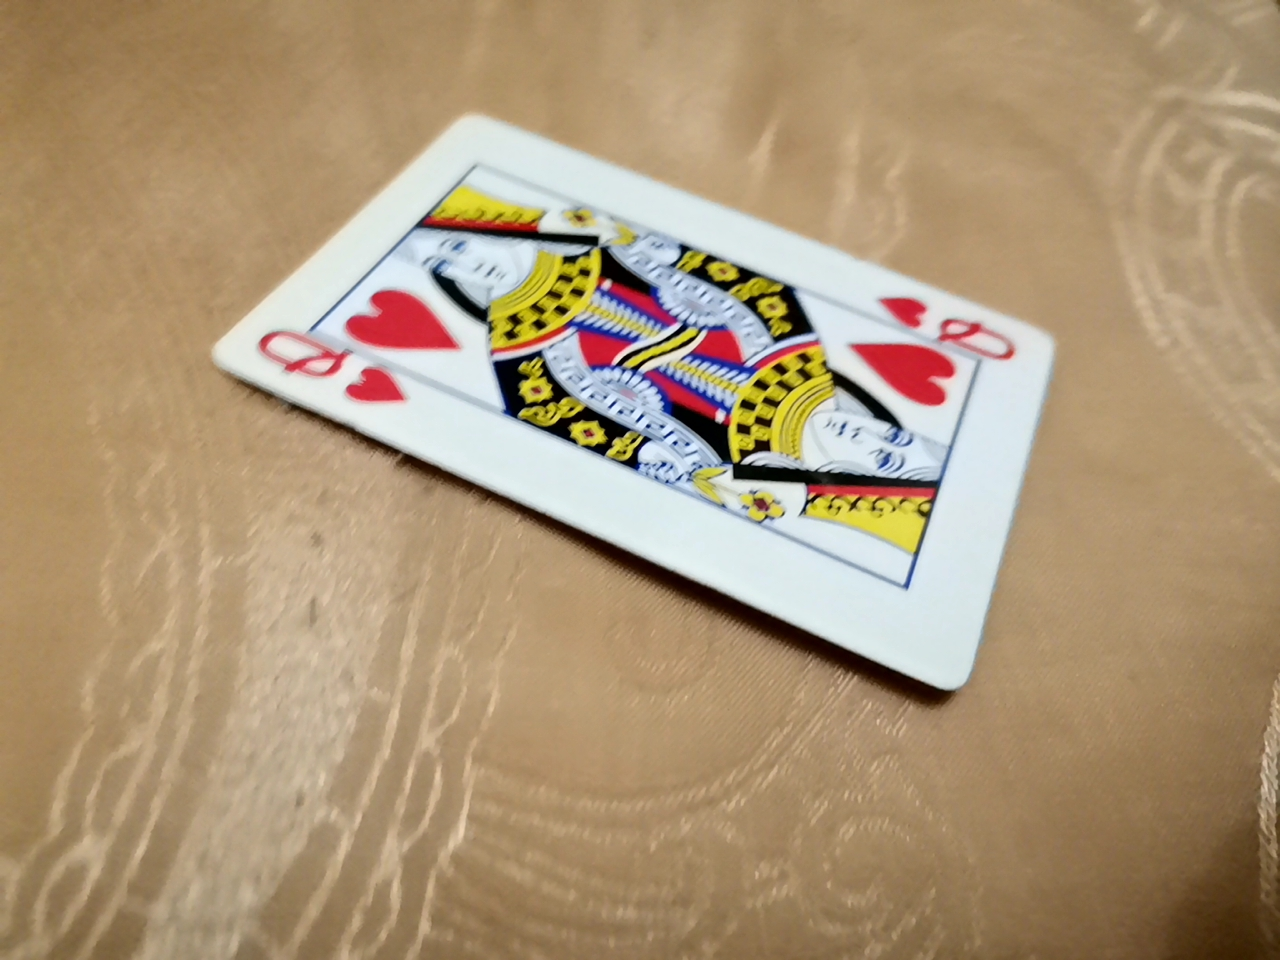hx q: (188, 61, 1083, 670)
